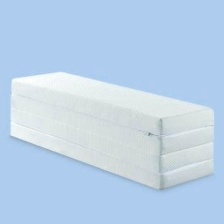foam_box: (4, 67, 218, 193)
